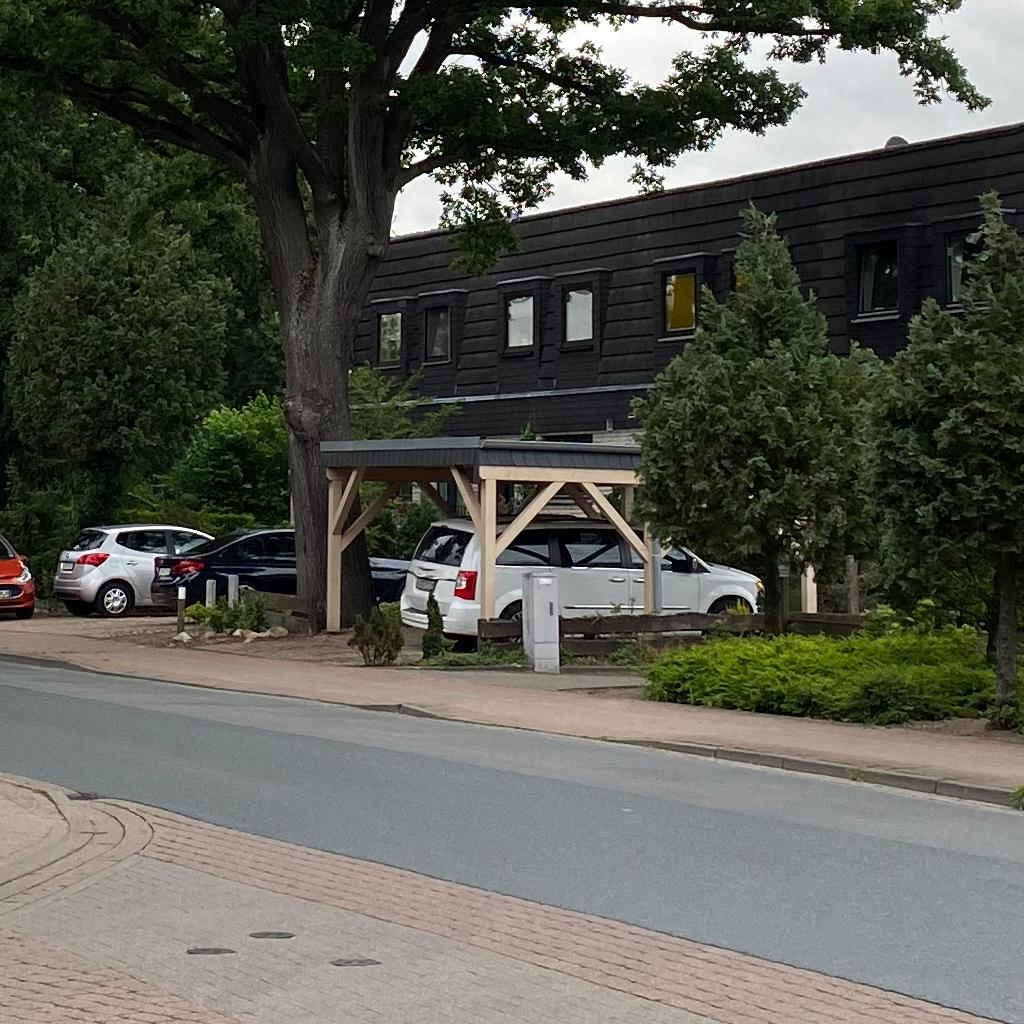tree: (1, 1, 993, 635), (627, 203, 891, 637), (865, 190, 1023, 707)
